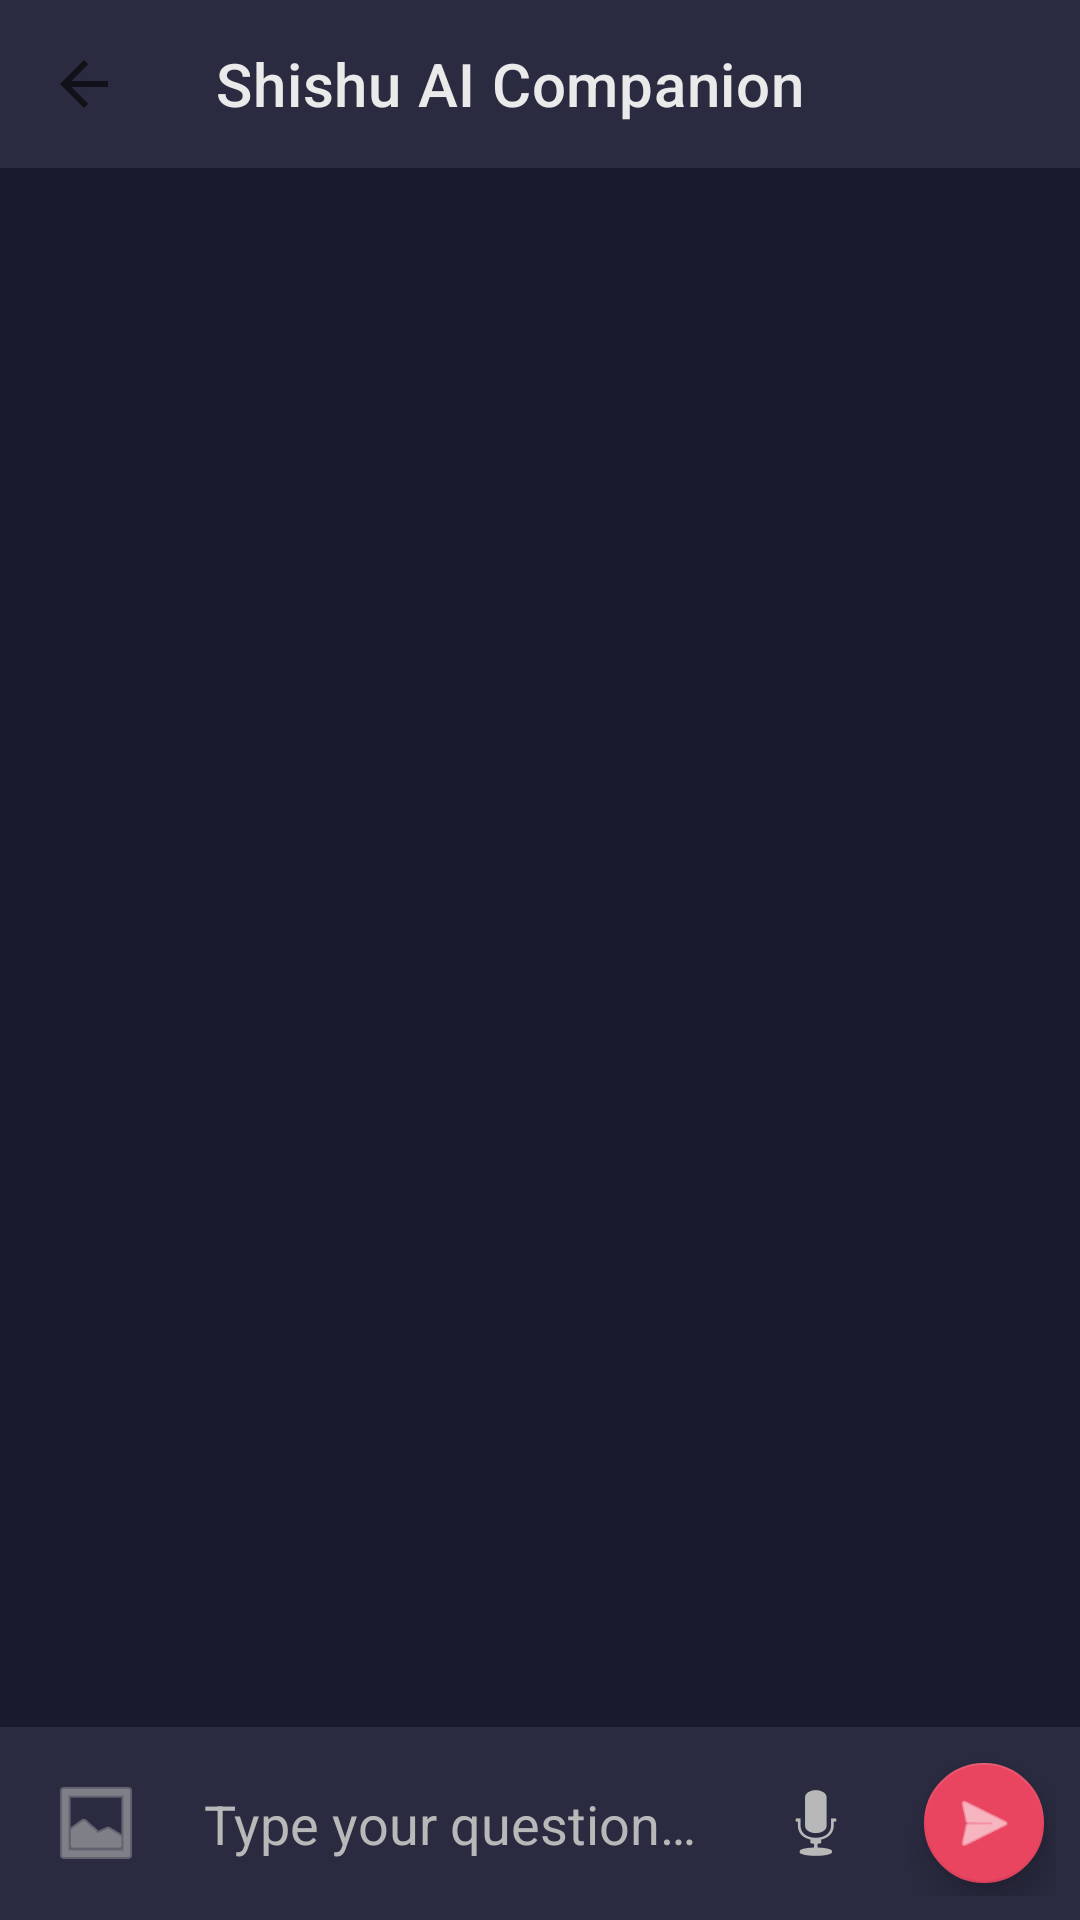

Icons on this 1080 x 1920 Android screen, each with the point to tap as (x=x, y=y):
gallery: (x=96, y=1823)
send: (x=984, y=1823)
speak now: (x=816, y=1823)
